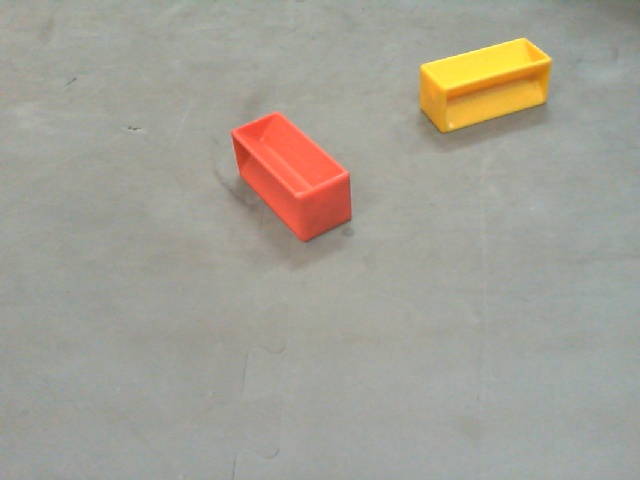RedSample: (232, 112, 356, 244)
YellowSample: (417, 37, 552, 132)
